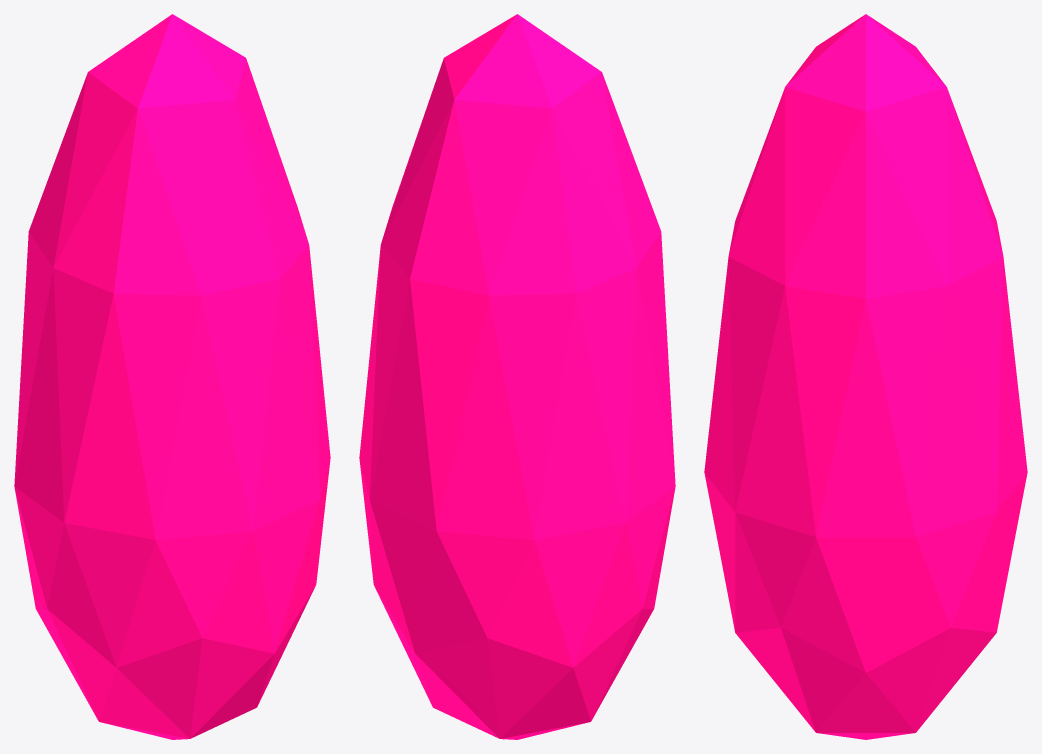
Rendered from Oblisk Gem.glb.
3 views of the same model, side by side, from view 1: azimuth 30°, elevation 25°; view 2: azimuth 150°, elevation 25°; view 3: azimuth 270°, elevation 25° (orthographic).
Visible parts, largest first — view 1: Oblisk Gem; view 2: Oblisk Gem; view 3: Oblisk Gem.
Boxes of the visible parts, box(x1,y1,x2,y2) form: Oblisk Gem: box(14, 14, 330, 739); Oblisk Gem: box(359, 14, 675, 739); Oblisk Gem: box(704, 14, 1027, 739).
Size of the model in its own units: 2.31 by 6.03 by 2.43.
